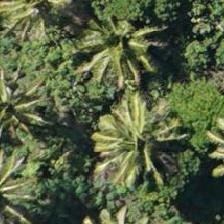coconut_tree: (77, 0, 167, 88), (0, 67, 47, 157)
